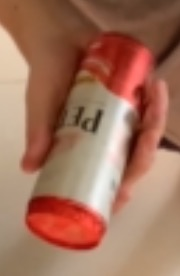petra: (29, 21, 154, 252)
